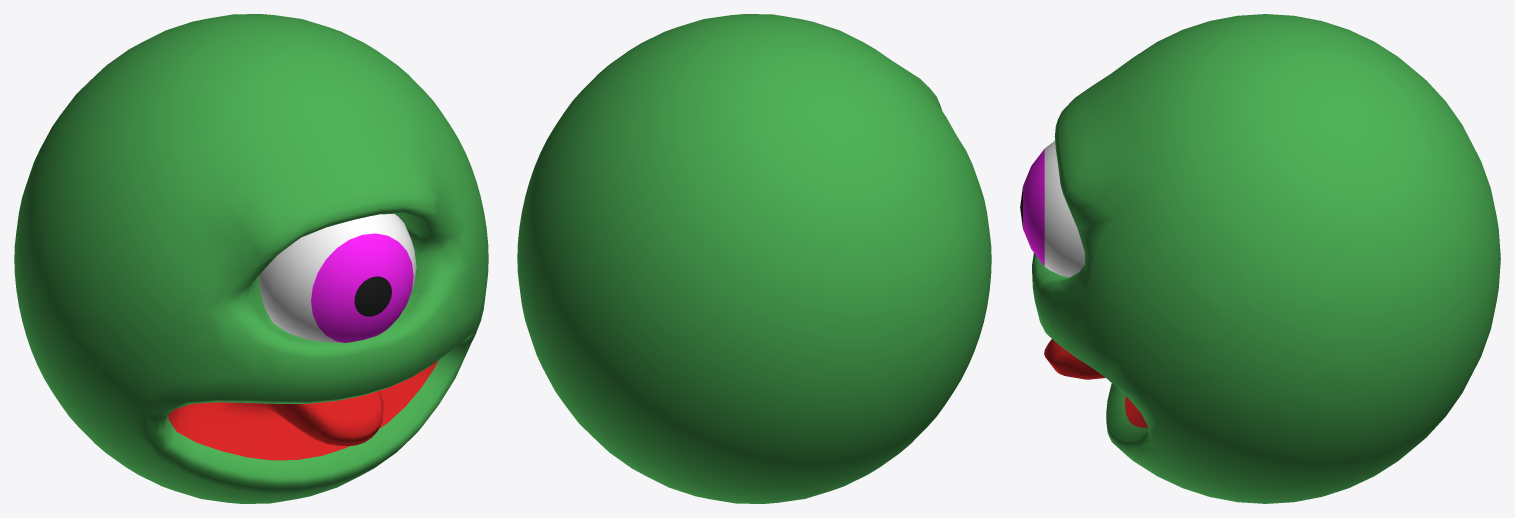
Rendered from grimace.obj.
The picture shows the model from 3 angles, left to right: view 1: azimuth 30°, elevation 25°; view 2: azimuth 150°, elevation 25°; view 3: azimuth 270°, elevation 25°; orthographic projection.
Visible parts, largest first — view 1: head, eye; view 2: head; view 3: head, eye.
Boxes of the visible parts, bbox=[...] form: head: bbox=[14, 14, 488, 503]; eye: bbox=[258, 213, 416, 342]; head: bbox=[517, 14, 991, 503]; head: bbox=[1032, 14, 1500, 503]; eye: bbox=[1020, 141, 1085, 277].
Bounding box in the file's own units: 3.98 × 4.13 × 4.02.
